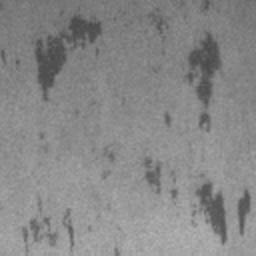Red iron sheet: (35, 14, 104, 102), (189, 180, 252, 247), (187, 29, 225, 134), (19, 193, 76, 256), (143, 156, 178, 204), (102, 146, 115, 161), (198, 0, 211, 14), (164, 111, 172, 127), (0, 50, 6, 65), (113, 246, 120, 256)
